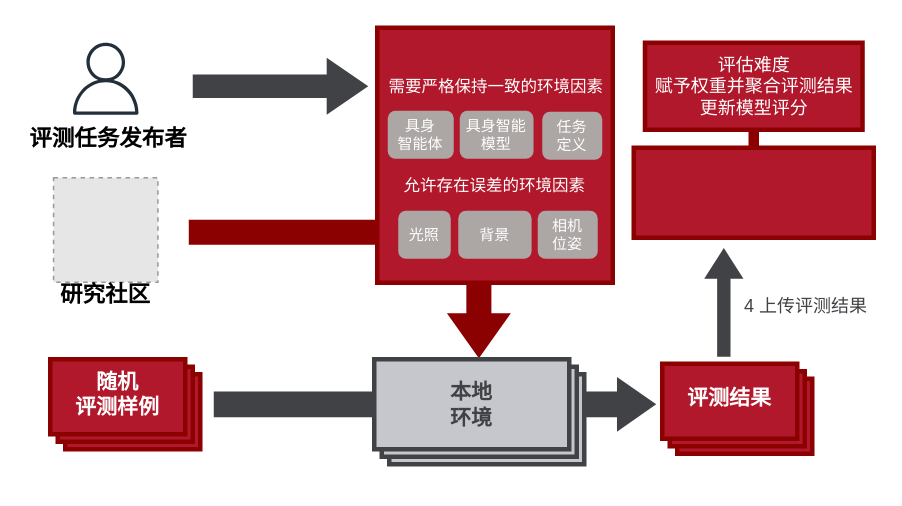
Some shapes in this 902 by 506 pixel diagram are drawn without their labels. Grey dashed boxes stand in for pictures. The box of each missing label's shape, as (x1, y1, x2, y2) in pixels:
1 发布评测任务: (192, 57, 368, 114)
2 布置本地环境: (188, 219, 510, 358)
3 模型推理与评测: (213, 376, 656, 431)
环境复现协议: (374, 25, 614, 284)
评测结果数据库 多模态大模型难度评估模块: (631, 145, 875, 239)
